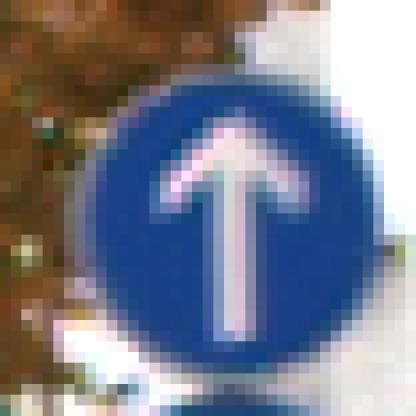AheadOnly: (65, 54, 364, 364)
